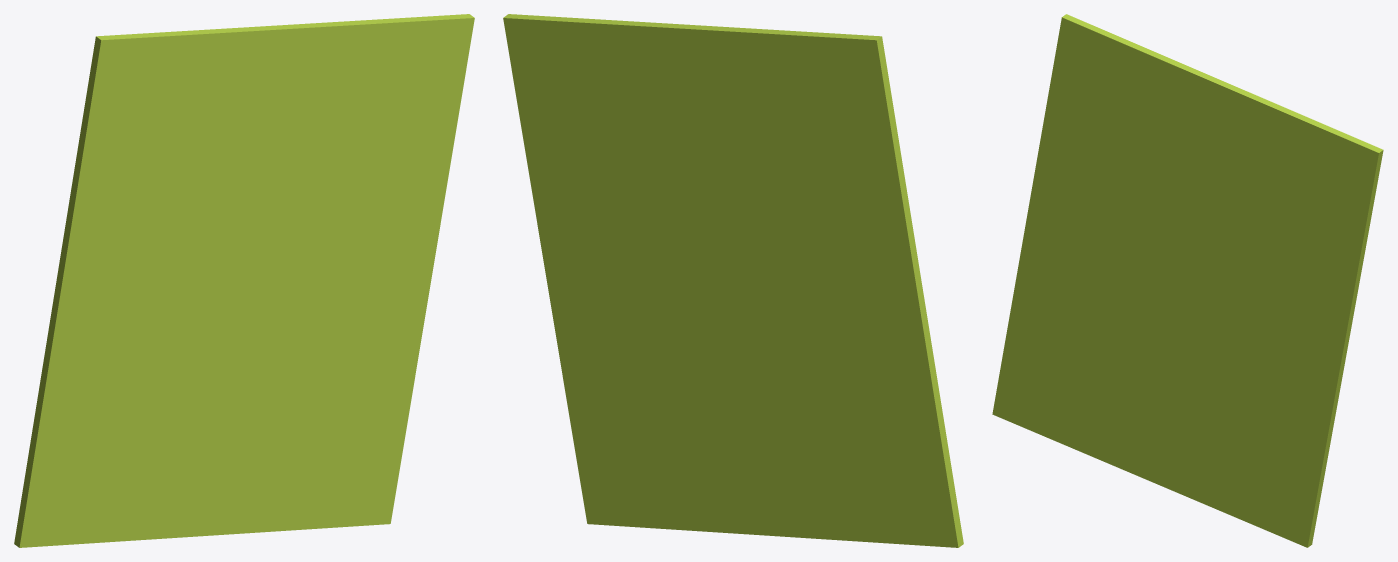
3 renders of one model, left to right at view 1: azimuth 30°, elevation 25°; view 2: azimuth 150°, elevation 25°; view 3: azimuth 330°, elevation 25°, orthographic. The views are drawn at different scales.
Parts seen in each view (by area): view 1: osm-way27917482-F1; view 2: osm-way27917482-F1; view 3: osm-way27917482-F1.
Part boxes in pixels (x1,y1,x2,y2): osm-way27917482-F1: [14, 14, 474, 547]; osm-way27917482-F1: [503, 14, 963, 547]; osm-way27917482-F1: [992, 14, 1383, 547].
Bounding box in the file's own units: 7.31 × 8.51 × 0.15.
